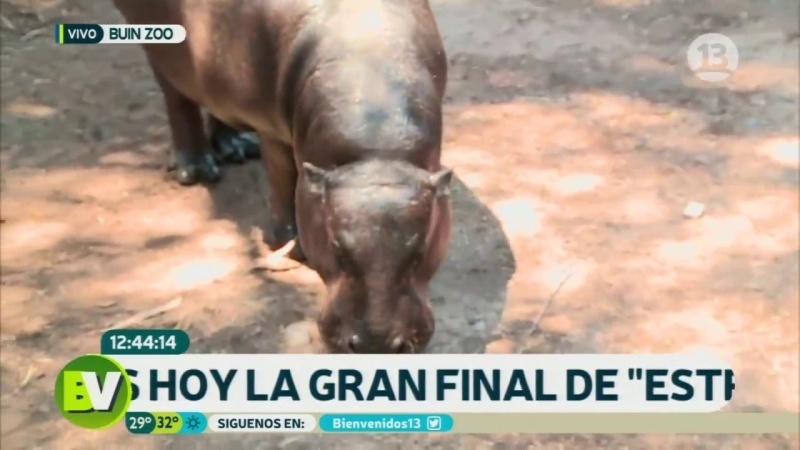hipopotamo: (100, 1, 465, 353)
